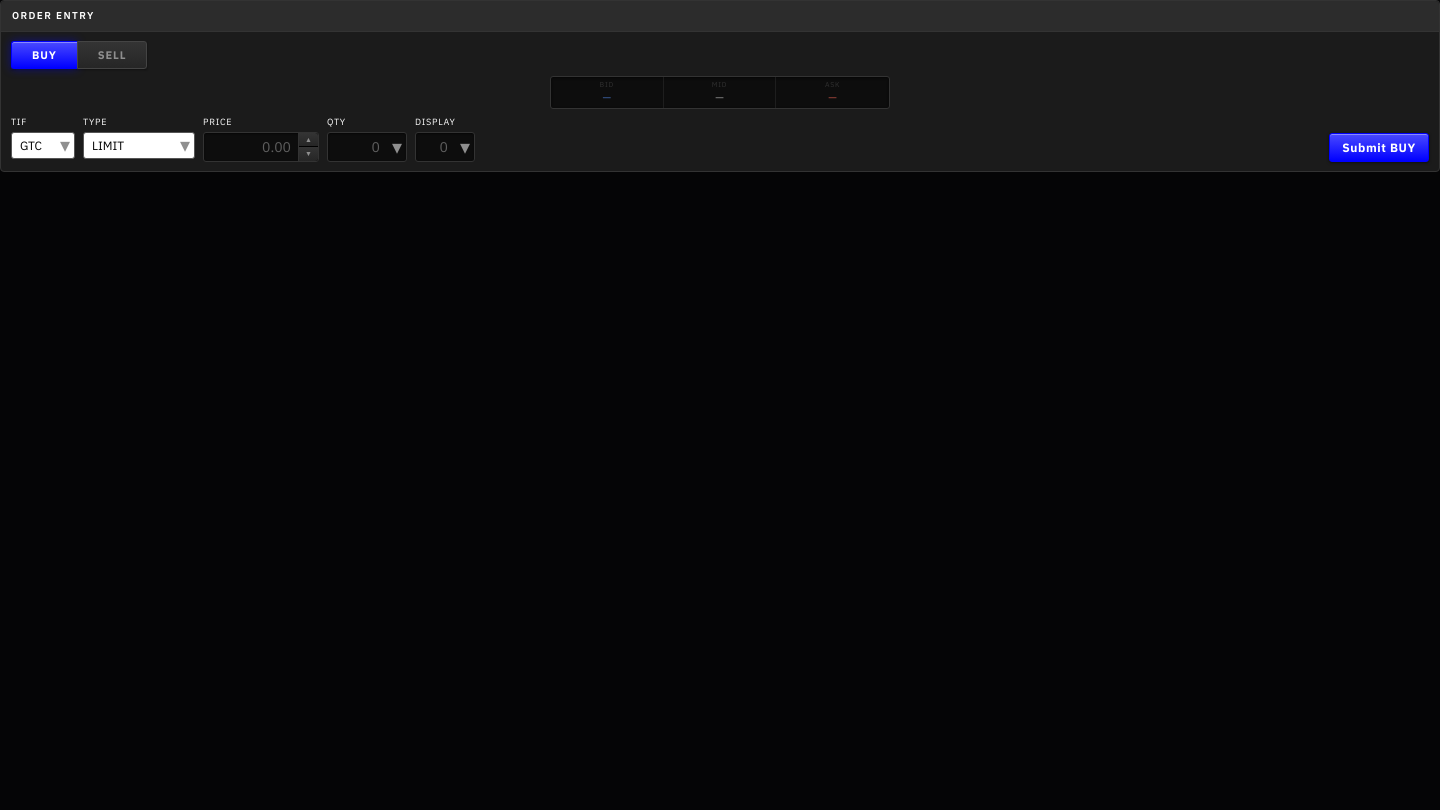
Test case: topmost confirmation popups › Order Confirmation renders into the body as topmost and refuses an outside click with the alert
In the field with test id "price-input": (251, 147) [204, 133, 298, 161], type "150.00"
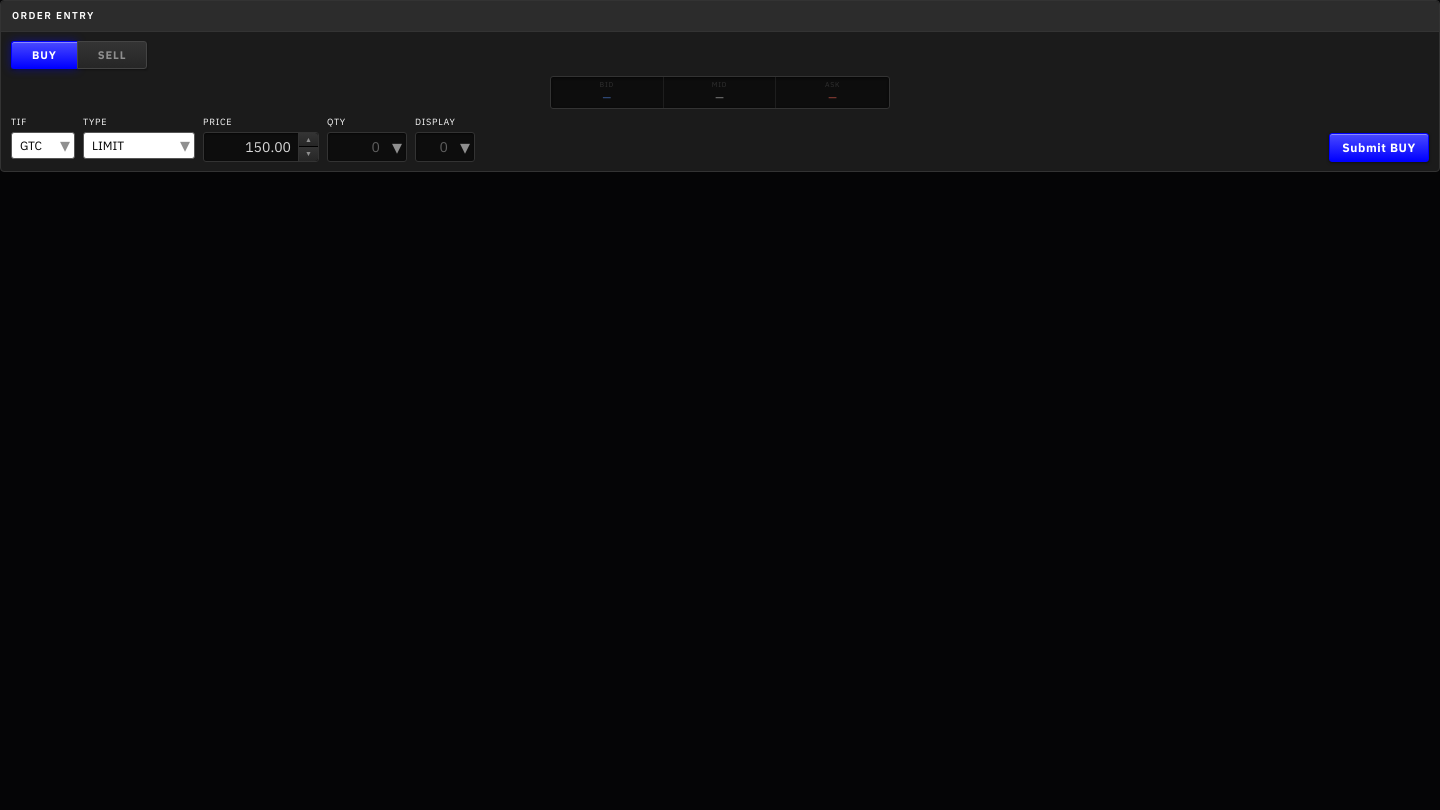
In the field with test id "qty-input": (367, 147) [327, 132, 407, 162], type "5"
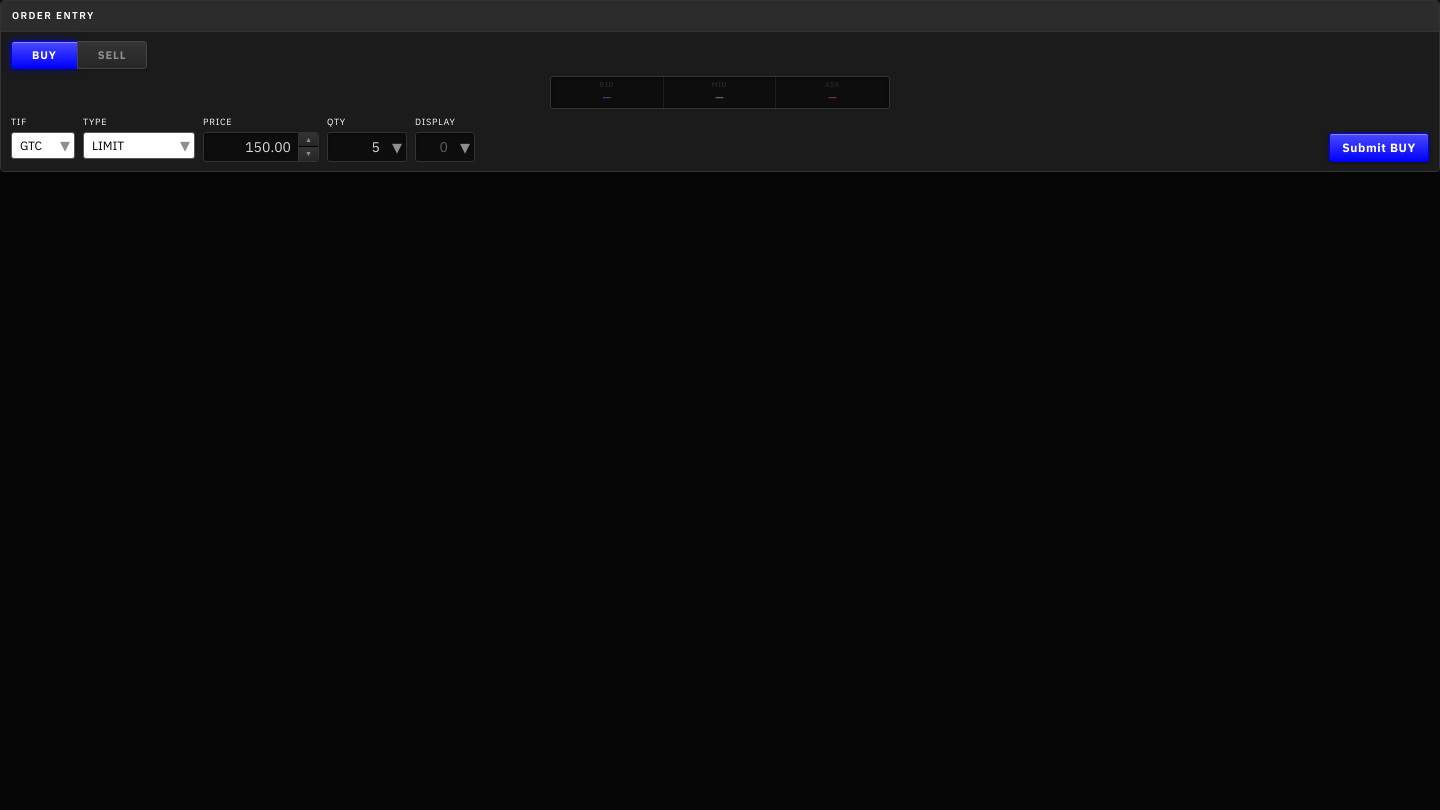
Click the button with test id "order-submit": (1379, 147) [1329, 133, 1429, 162]
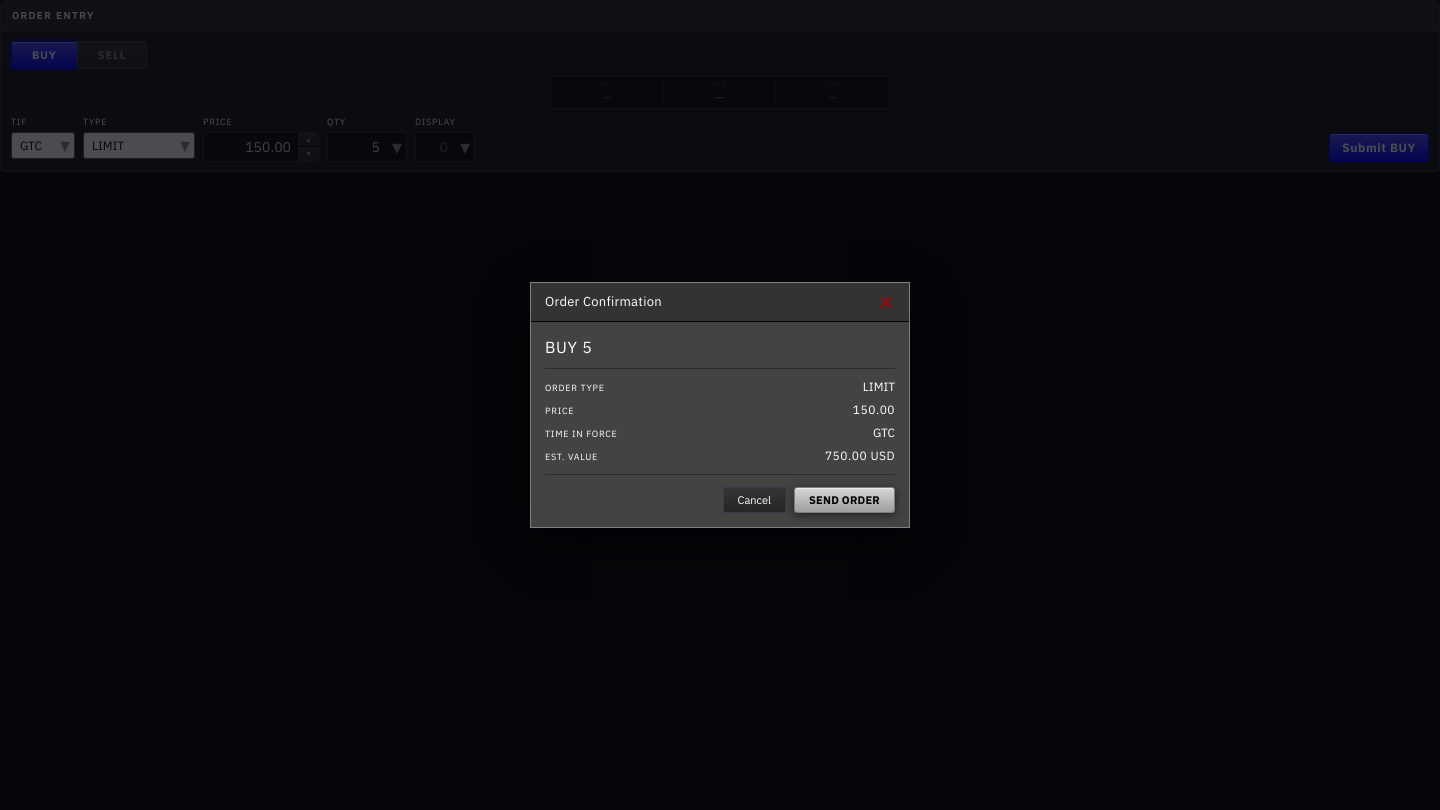
Press the mouse on the element with test id "order-confirm-overlay": (720, 405) [0, 0, 1439, 809]
Result: the element with test id "order-confirm-overlay" is shown
Press the mouse on the text with test id "order-confirm-headline": (569, 347) [545, 337, 592, 357]
Click the button with test id "order-confirm-cancel": (754, 500) [722, 487, 786, 513]
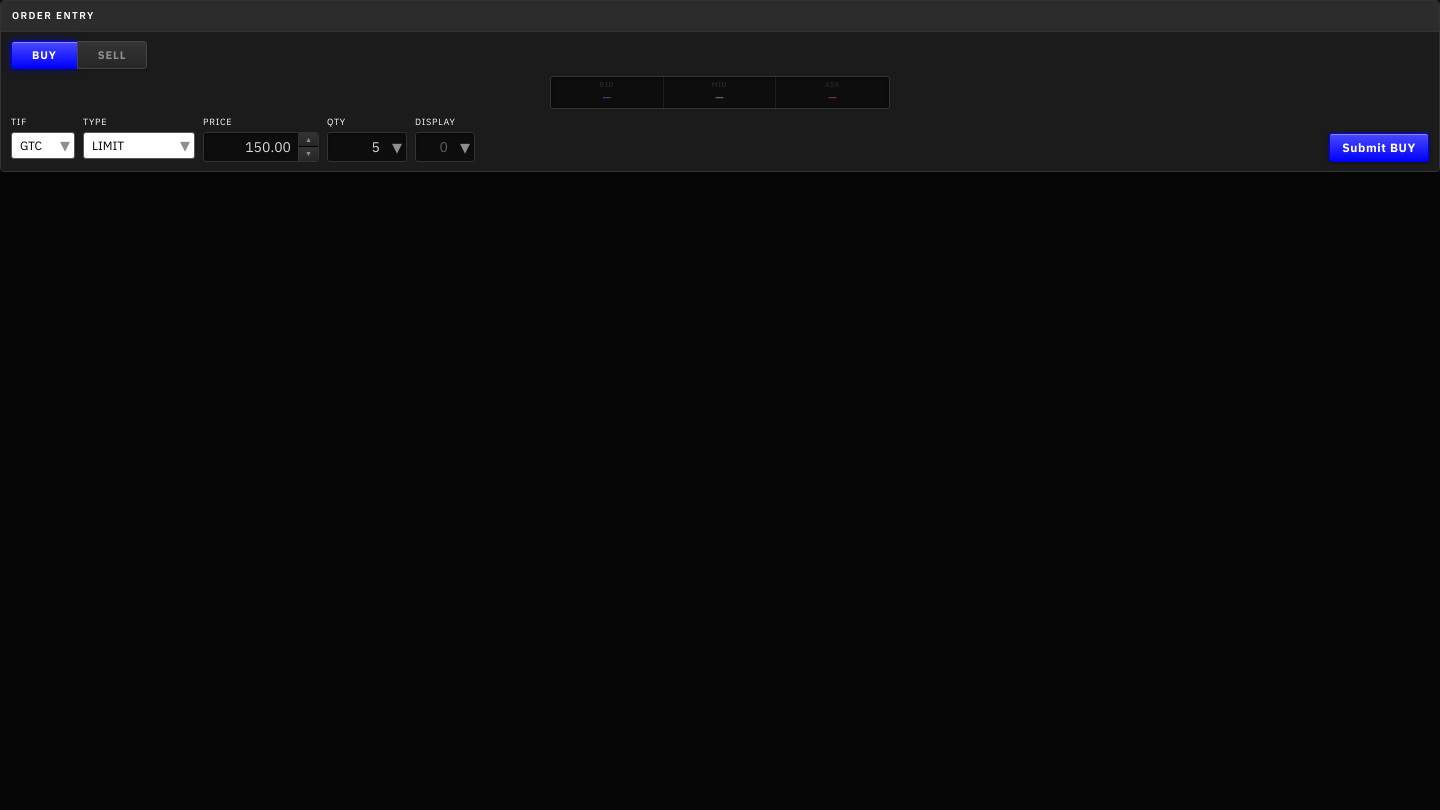
Result: the element with test id "order-confirm-overlay" is gone
